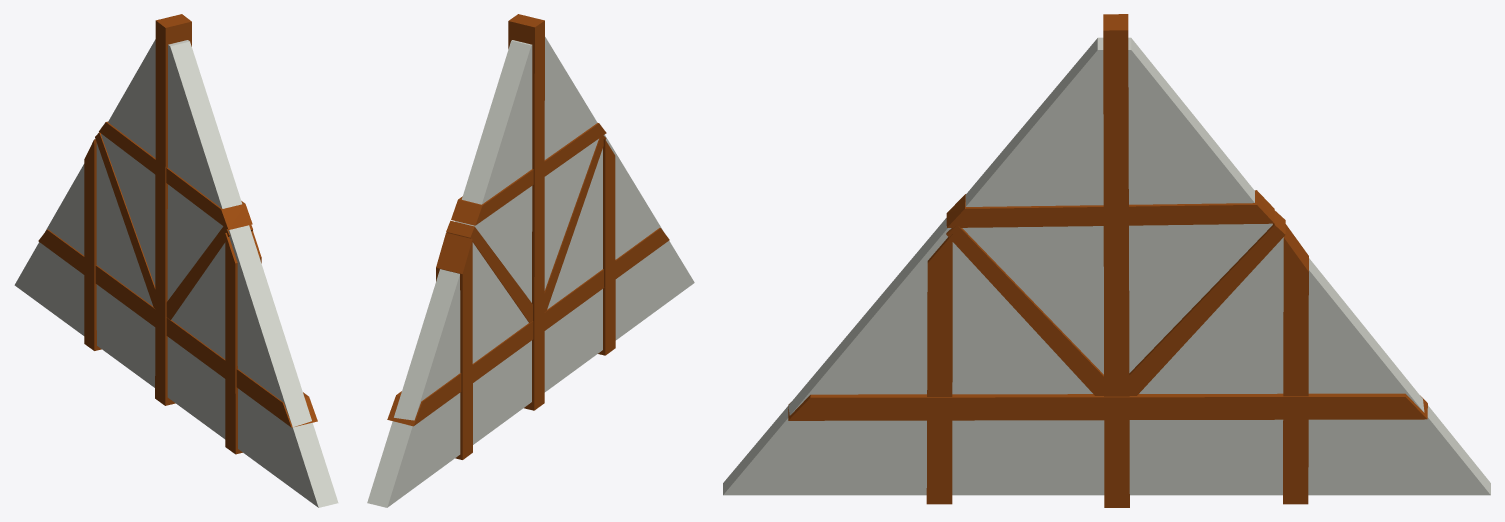
Rendered from NormalRoofWall1.fbx.
3 renders of one model, left to right at view 1: azimuth 30°, elevation 25°; view 2: azimuth 150°, elevation 25°; view 3: azimuth 270°, elevation 25°, orthographic. The views are drawn at different scales.
Visible parts, largest first — view 1: NormalRoofWall1; view 2: NormalRoofWall1; view 3: NormalRoofWall1.
Boxes of the visible parts, bbox=[...] form: NormalRoofWall1: bbox=[14, 14, 338, 507]; NormalRoofWall1: bbox=[367, 14, 694, 507]; NormalRoofWall1: bbox=[723, 14, 1490, 507].
Size of the model in its own units: 104 by 1368 by 1993.
